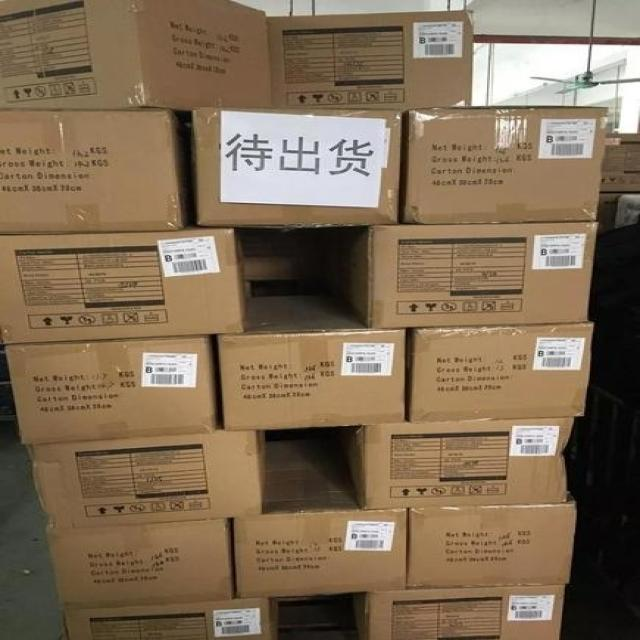box: (0, 226, 249, 345), (0, 1, 275, 108), (234, 439, 406, 599), (347, 221, 599, 329), (219, 294, 406, 431), (187, 108, 402, 225), (0, 110, 193, 235), (400, 108, 606, 224), (4, 337, 219, 446), (24, 430, 266, 526), (341, 417, 575, 510), (265, 12, 475, 108), (405, 323, 591, 424), (47, 520, 235, 610), (408, 489, 578, 588), (355, 585, 566, 640), (60, 597, 275, 640)
